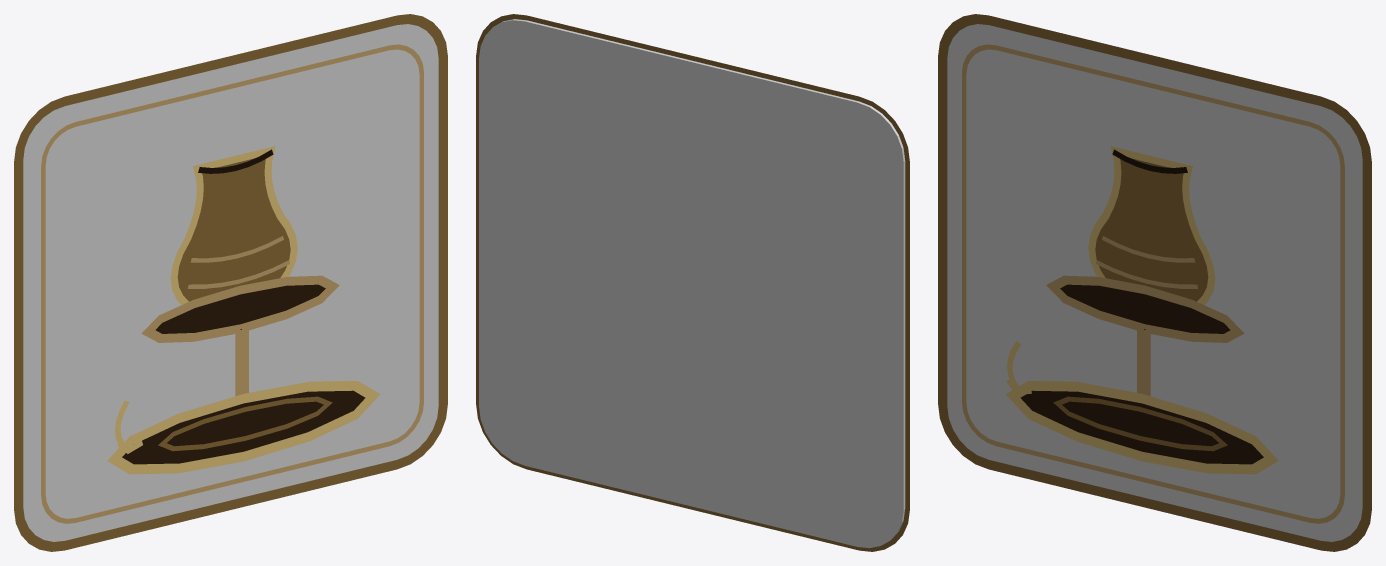
The model's file is obj-goncharnyi-krug.glb.
The picture shows the model from 3 angles, left to right: view 1: azimuth 30°, elevation 25°; view 2: azimuth 150°, elevation 25°; view 3: azimuth 330°, elevation 25°; orthographic projection.
Parts seen in each view (by area): view 1: obj-goncharnyi-krug; view 2: obj-goncharnyi-krug; view 3: obj-goncharnyi-krug.
Boxes of the visible parts, x1=… form: obj-goncharnyi-krug: x1=14, y1=14, x2=447, y2=551; obj-goncharnyi-krug: x1=476, y1=14, x2=909, y2=551; obj-goncharnyi-krug: x1=938, y1=14, x2=1371, y2=551.
Size of the model in its own units: 0.3917 by 0.3917 by 0.0301.
